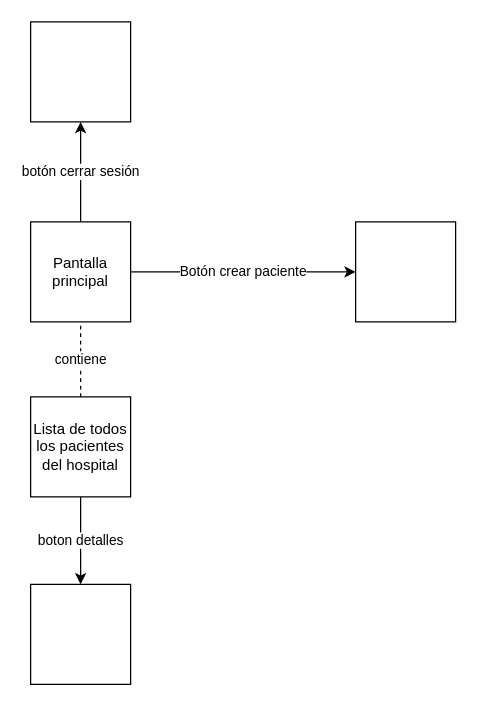
The diagram is 478 pixels wide and 706 high, and some of its shapes have lost their labels. Each missing label, with the centre of its shape:
"Crear paciente (Auxiliar)" belongs at (x=405, y=271).
"Detalles del paciente (Auxiliar)" belongs at (x=80, y=633).
